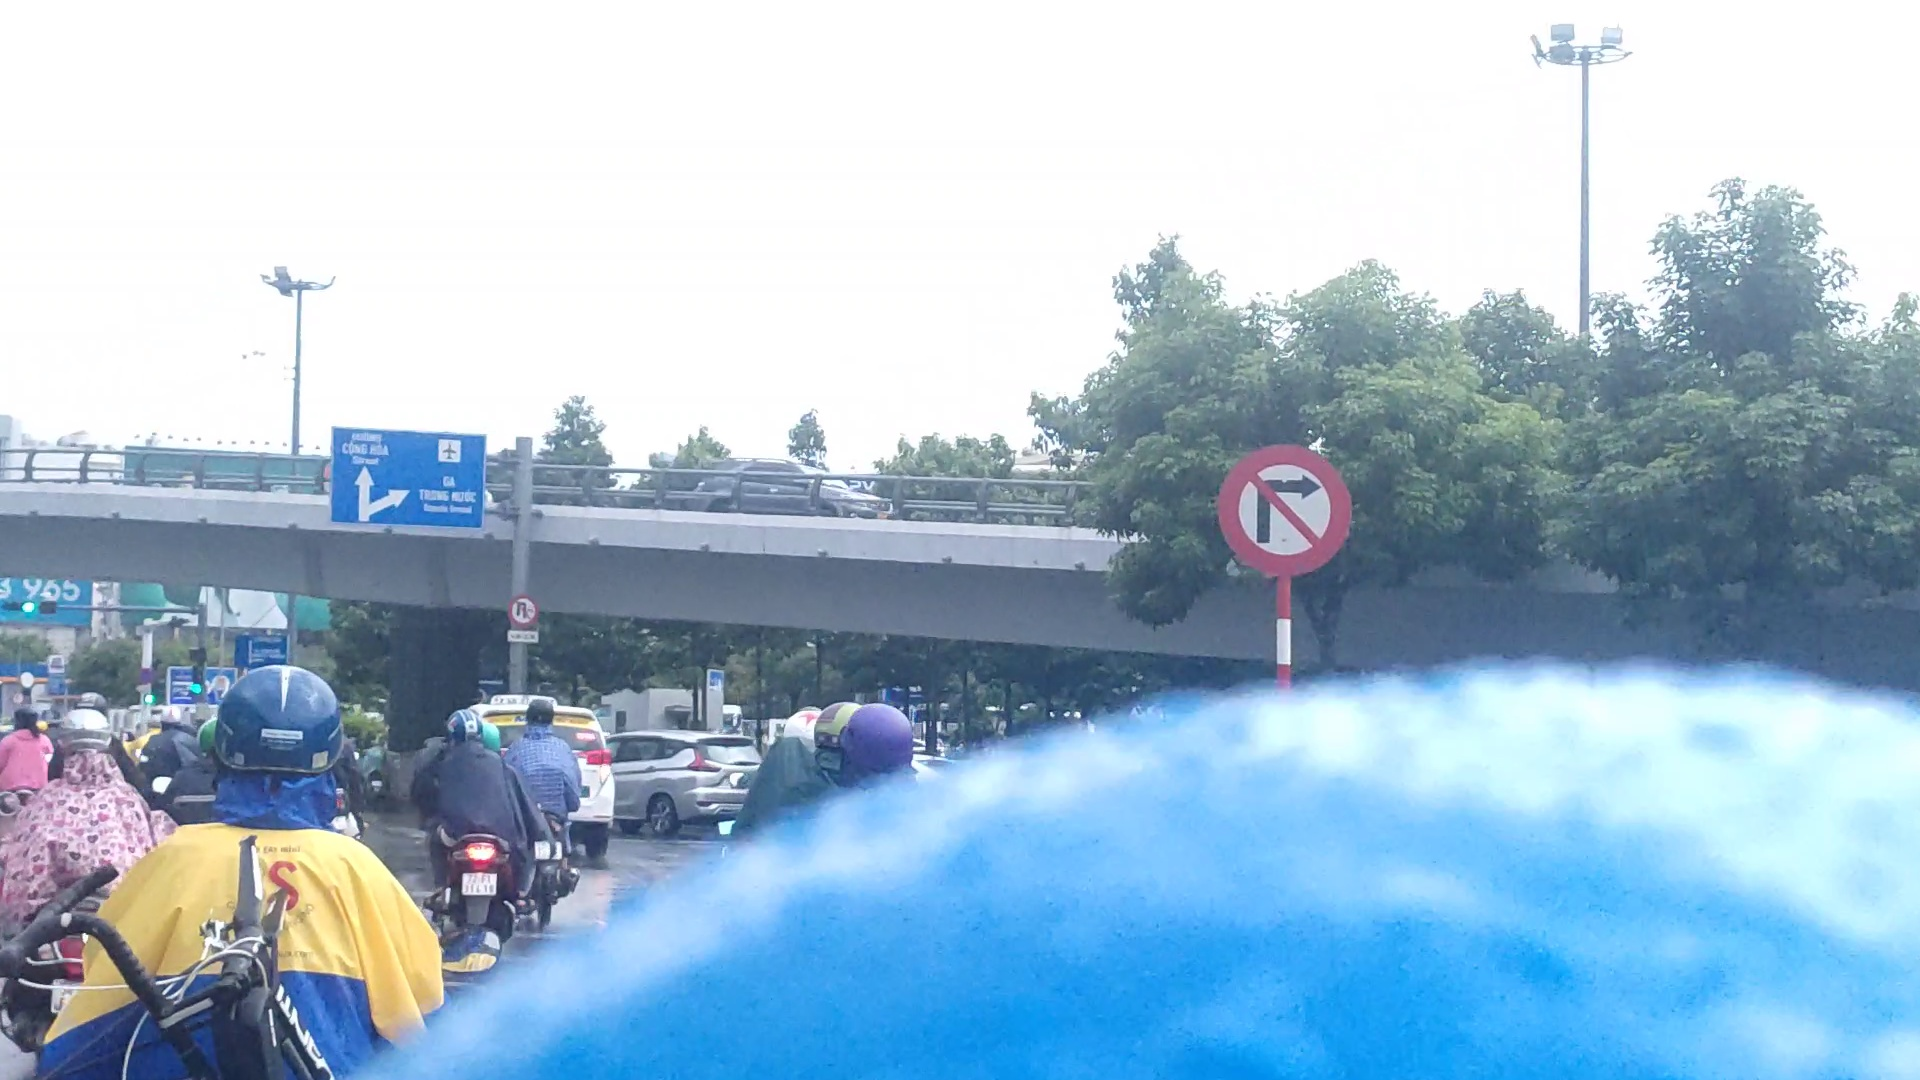P.123b: (1220, 443, 1352, 578)
P.124b1: (506, 593, 539, 628)
